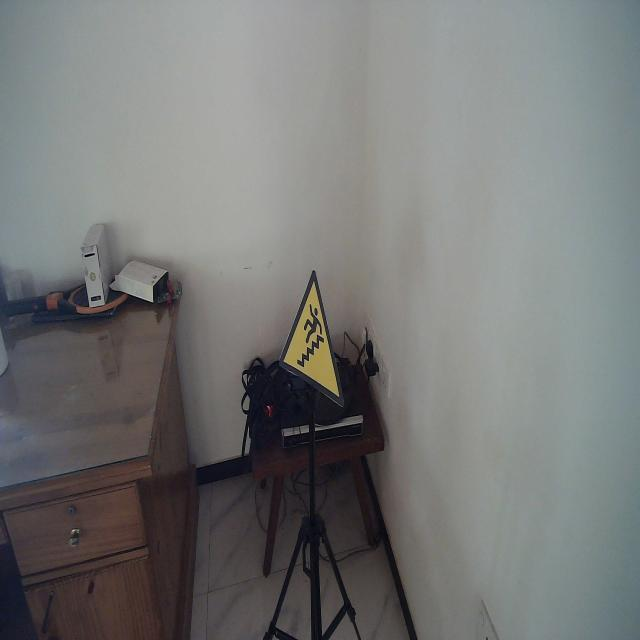stairs: (276, 266, 346, 410)
